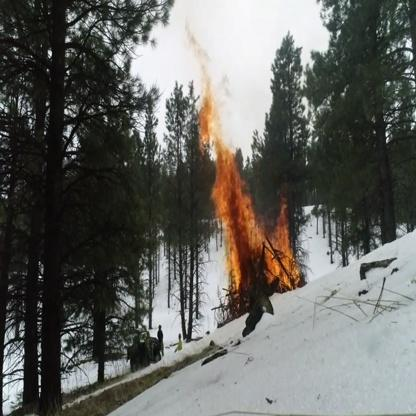Fire: (181, 14, 304, 301)
